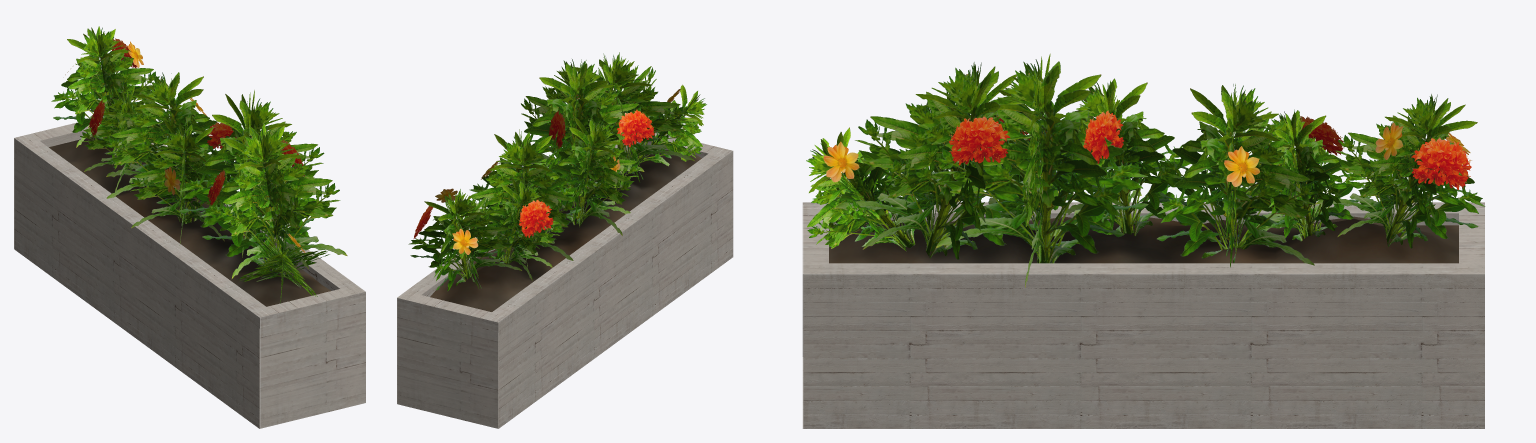
File: BlumaGaschta.fbx
The picture shows the model from 3 angles, left to right: view 1: azimuth 30°, elevation 25°; view 2: azimuth 150°, elevation 25°; view 3: azimuth 270°, elevation 25°; orthographic projection. The views are drawn at different scales.
Visible parts, largest first — view 1: Crate; view 2: Crate; view 3: Crate.
Part boxes in pixels (x1,y1,x2,y2): Crate: (14,26,365,428); Crate: (397,52,733,428); Crate: (802,53,1485,428).
Size of the model in its own units: 78.96 by 117 by 223.
